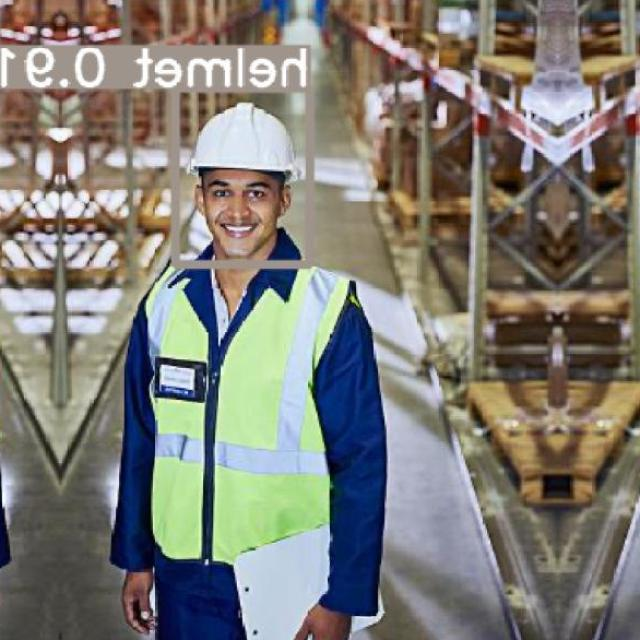helmet: (189, 100, 300, 184)
